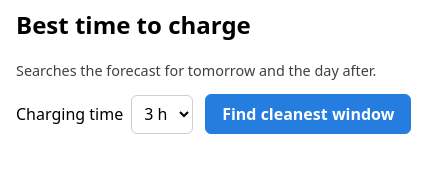
Scenario: ChargingWindowForm › shows error message when request fails
Click the button "Find cleanest window": (308, 114) x1=205 y1=94 x2=411 y2=134
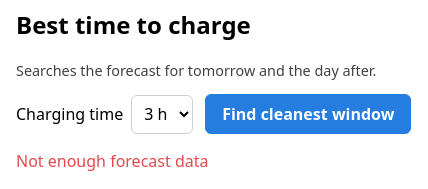
Expected: the message reads "Not enough forecast data", x1=16 y1=150 x2=208 y2=172
